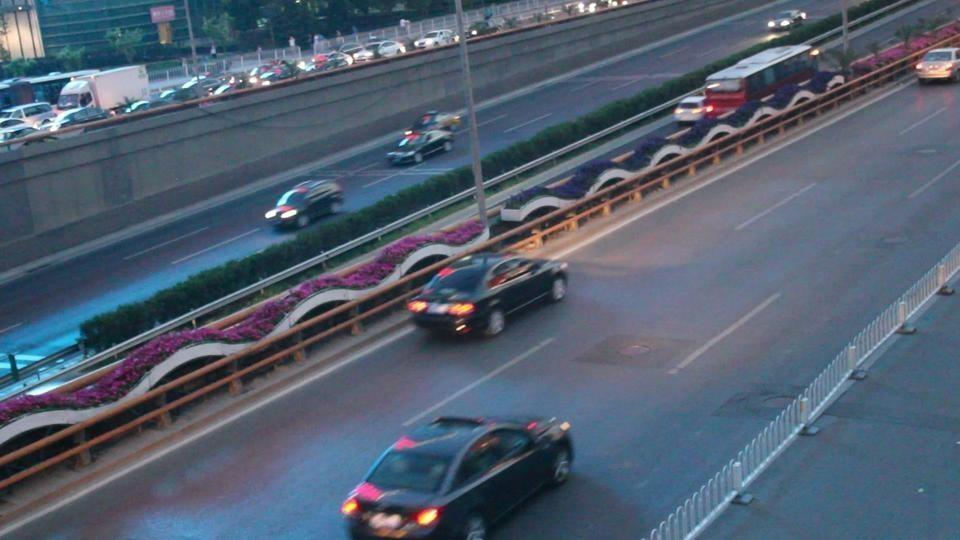car: (339, 414, 577, 539), (404, 252, 571, 340), (498, 147, 658, 228), (264, 178, 346, 231), (386, 128, 453, 167), (152, 75, 226, 106), (45, 105, 113, 133), (913, 47, 960, 83), (1, 102, 56, 131), (0, 119, 56, 146), (411, 109, 461, 136), (253, 62, 297, 85), (766, 8, 807, 32)
